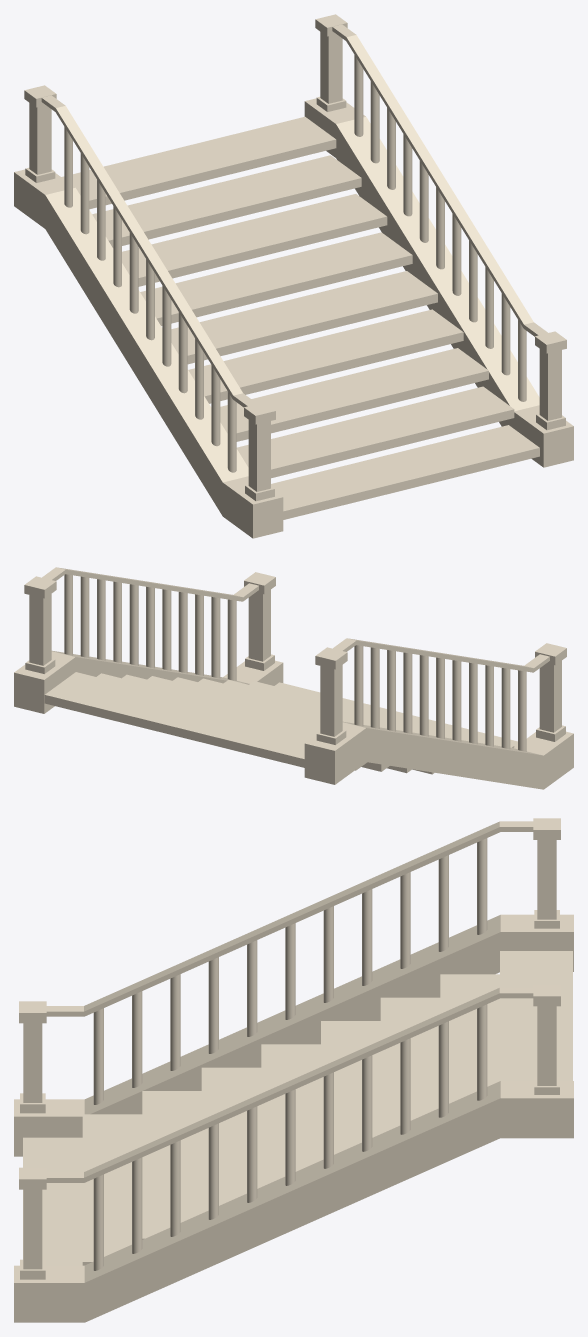
The model's file is SM_stair_02.glb.
The picture shows the model from 3 angles, top to bottom: view 1: azimuth 30°, elevation 25°; view 2: azimuth 150°, elevation 25°; view 3: azimuth 270°, elevation 25°; orthographic projection. The views are drawn at different scales.
Visible parts, largest first — view 1: SM_stair_02; view 2: SM_stair_02; view 3: SM_stair_02.
Part boxes in pixels (x1,y1,x2,y2): SM_stair_02: (14,14,573,538); SM_stair_02: (14,567,573,789); SM_stair_02: (14,818,573,1322).
Size of the model in its own units: 3.2 by 2.64 by 4.13.
